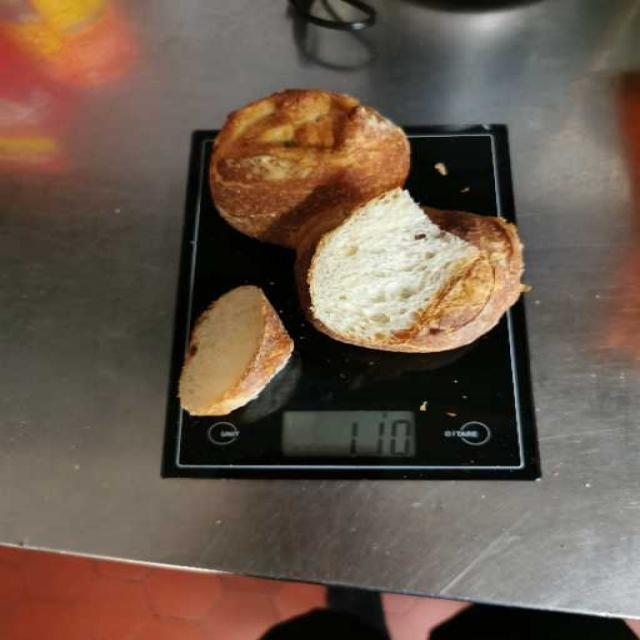bread: (187, 97, 513, 422)
